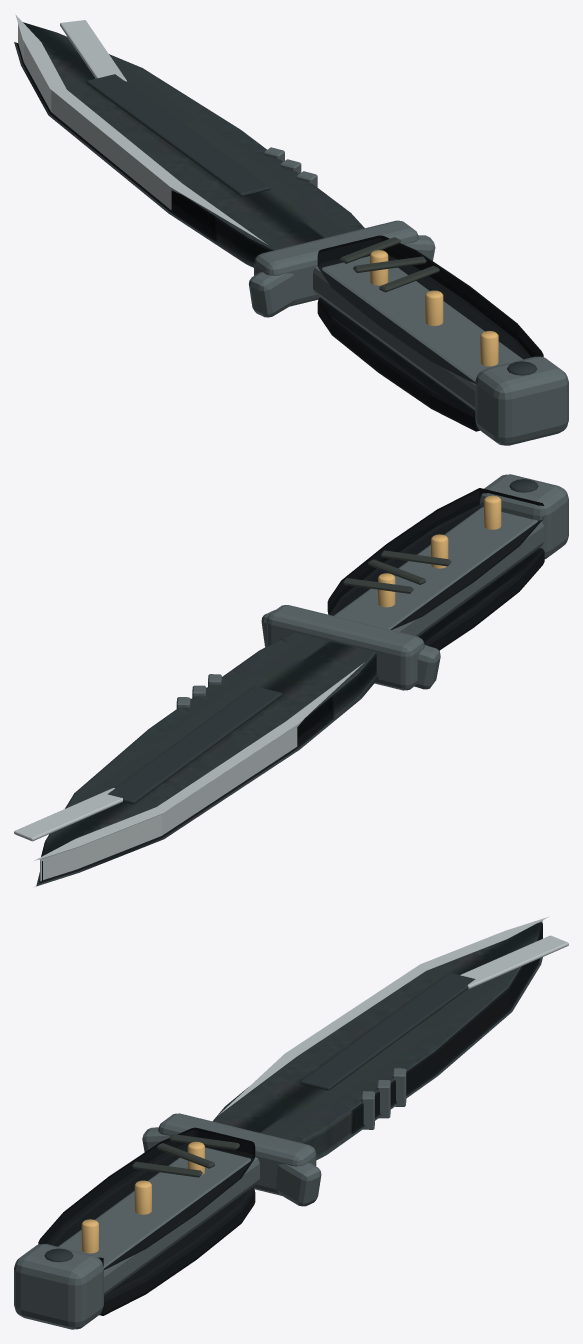
Rendered from pass65-field-knife-drop-lod0.glb.
The picture shows the model from 3 angles, top to bottom: view 1: azimuth 30°, elevation 25°; view 2: azimuth 150°, elevation 25°; view 3: azimuth 330°, elevation 25°; orthographic projection. The views are drawn at different scales.
Parts seen in each view (by area): view 1: FieldKnife_Blade_drop-lod0_Mesh, Cube_001.084, FieldKnife_HandleScale_1_001.003, field-knife-cutting-edge, Cube_001.094, field-knife-fuller, FieldKnife_HandleScale_-1_001.003, Cube_001.081, Cube_001.083, Cube_001.080, Cylinder_001.011, Cylinder_001.012 (+1 smaller); view 2: FieldKnife_Blade_drop-lod0_Mesh, Cube_001.084, field-knife-cutting-edge, FieldKnife_HandleScale_1_001.003, Cube_001.081, field-knife-fuller, FieldKnife_HandleScale_-1_001.003, Cube_001.094, Cube_001.080, Cube_001.083, Cylinder_001.012, Cube_001.090 (+1 smaller); view 3: FieldKnife_Blade_drop-lod0_Mesh, Cube_001.084, FieldKnife_HandleScale_1_001.003, Cube_001.094, field-knife-fuller, FieldKnife_HandleScale_-1_001.003, Cube_001.081, field-knife-cutting-edge, Cube_001.080, Cube_001.082, Cylinder_001.012, Cylinder_001.011 (+2 smaller).
Part boxes in pixels (x1,y1,x2,y2): FieldKnife_Blade_drop-lod0_Mesh: (14, 22, 364, 267); Cube_001.084: (313, 256, 522, 410); FieldKnife_HandleScale_1_001.003: (317, 235, 543, 383); field-knife-cutting-edge: (15, 14, 267, 244); Cube_001.094: (475, 356, 568, 445); field-knife-fuller: (86, 74, 270, 196); FieldKnife_HandleScale_-1_001.003: (317, 297, 479, 431); Cube_001.081: (254, 220, 418, 306); Cube_001.083: (249, 272, 295, 317); Cube_001.080: (60, 20, 126, 81); Cylinder_001.011: (425, 290, 443, 325); Cylinder_001.012: (480, 331, 498, 366); FieldKnife_Blade_drop-lod0_Mesh: (36, 632, 378, 886); Cube_001.084: (333, 507, 544, 636); field-knife-cutting-edge: (33, 662, 364, 887); FieldKnife_HandleScale_1_001.003: (327, 488, 544, 629); Cube_001.081: (266, 605, 424, 690); field-knife-fuller: (108, 686, 282, 803); FieldKnife_HandleScale_-1_001.003: (418, 548, 544, 650); Cube_001.094: (479, 474, 568, 558); Cube_001.080: (14, 788, 122, 841); Cube_001.083: (414, 645, 440, 689); Cylinder_001.012: (484, 495, 501, 529); Cube_001.090: (380, 550, 451, 566); FieldKnife_Blade_drop-lod0_Mesh: (212, 922, 542, 1160); Cube_001.084: (58, 1147, 259, 1295); FieldKnife_HandleScale_1_001.003: (38, 1127, 255, 1269); Cube_001.094: (14, 1244, 103, 1329); field-knife-fuller: (300, 972, 475, 1090); FieldKnife_HandleScale_-1_001.003: (99, 1187, 255, 1315); Cube_001.081: (158, 1113, 316, 1195); field-knife-cutting-edge: (218, 916, 549, 1115); Cube_001.080: (460, 935, 568, 988); Cube_001.082: (276, 1163, 321, 1206); Cylinder_001.012: (81, 1219, 98, 1253); Cylinder_001.011: (134, 1180, 151, 1214).
Bounding box in the file's own units: 0.4161 × 0.19 × 2.09.
7 materials, 2 textured.
